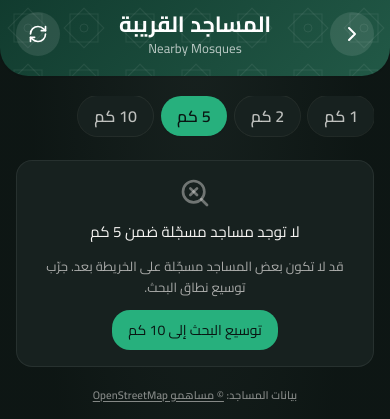
Test: Nearby Mosques — results and radius › no mosques: an empty state that offers a wider search
Expected: the element with test id "mosques-empty" is shown, [16,160,374,367]
Expected: the text "لا توجد مساجد مسجّلة ضمن 5 كم" is shown, [90,217,300,246]
Click the button with test id "mosques-expand" at point(195, 330), box [112,310,278,350]
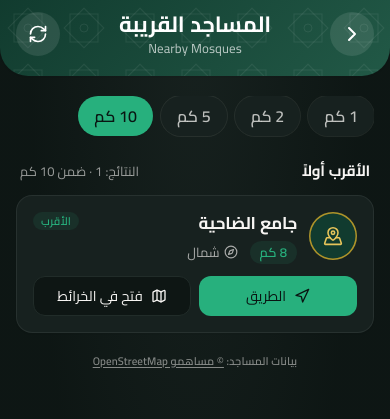
Now the button "10 كم" is pressed, box [78,96,153,136]
